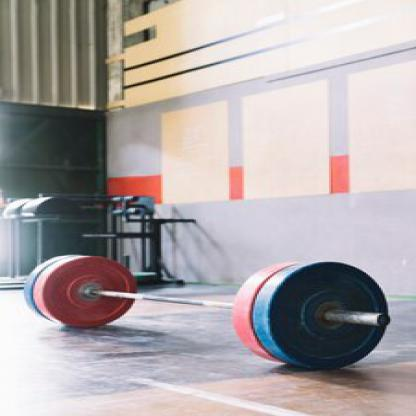Barbell: (228, 249, 402, 381)
